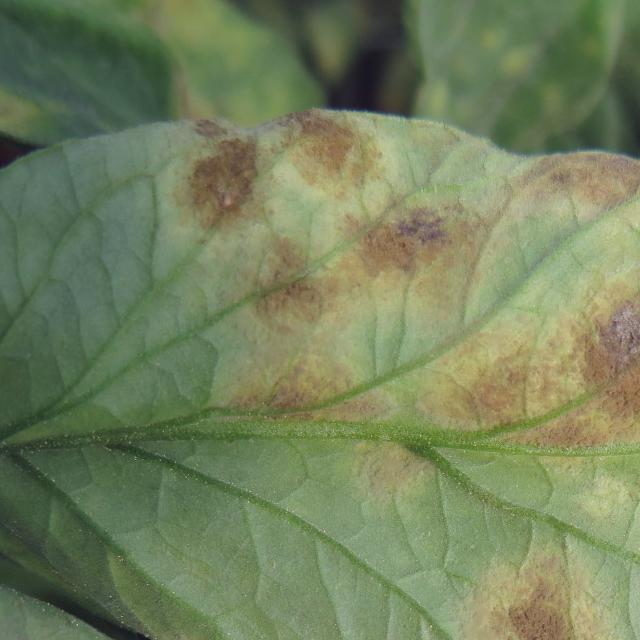Tomato mold leaf: (0, 100, 640, 640)
